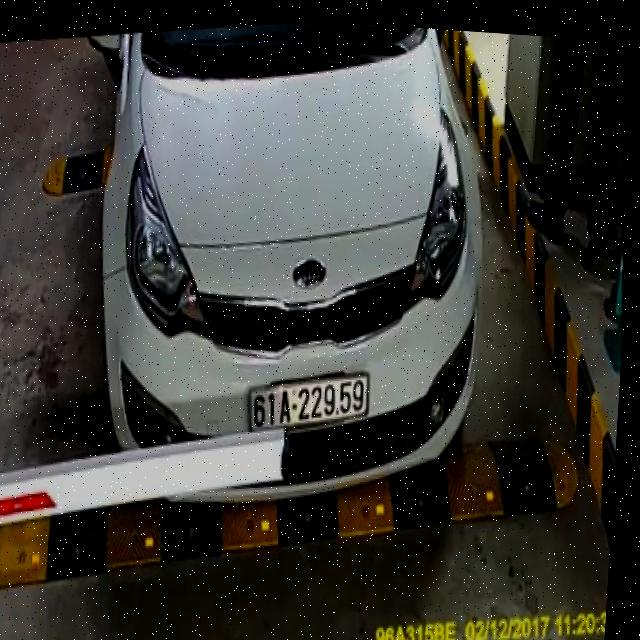car: (48, 5, 501, 528)
plate: (240, 362, 376, 445)
